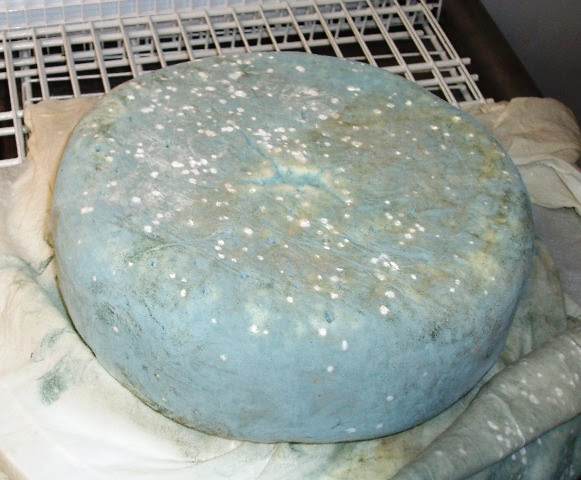cheese: (73, 41, 525, 442)
